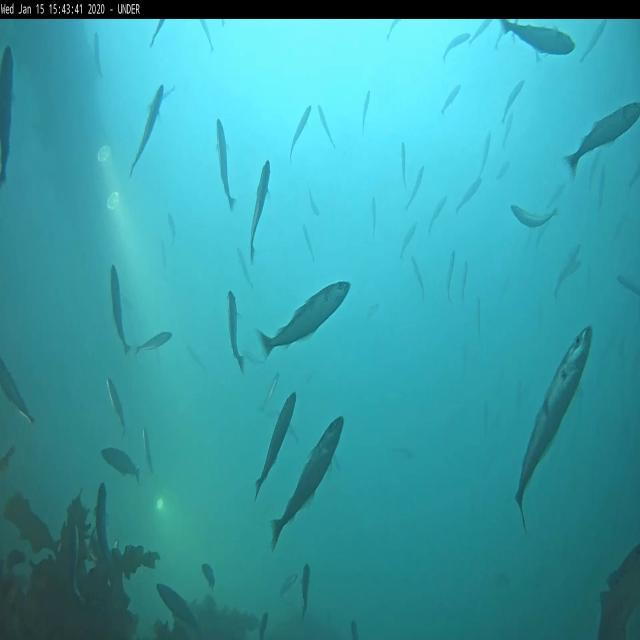fish: (517, 328, 595, 532), (272, 416, 344, 553), (258, 280, 350, 357), (563, 103, 639, 180), (254, 393, 297, 500), (131, 84, 163, 176), (504, 18, 575, 57), (156, 582, 200, 634), (2, 360, 35, 423), (250, 161, 273, 250), (109, 266, 132, 354), (216, 119, 236, 212), (0, 46, 13, 186), (95, 484, 114, 570), (229, 290, 248, 374), (69, 526, 87, 612), (554, 244, 580, 299), (101, 448, 140, 481), (290, 104, 312, 159), (106, 374, 127, 428), (511, 204, 558, 227), (580, 20, 608, 58), (501, 78, 525, 122), (318, 104, 338, 150), (589, 140, 611, 181), (137, 331, 175, 354), (261, 368, 281, 411), (458, 176, 483, 210), (442, 32, 471, 60), (406, 170, 424, 210), (430, 196, 450, 230), (441, 82, 462, 114), (237, 248, 253, 284), (470, 18, 492, 44), (200, 20, 218, 51), (412, 256, 424, 300), (618, 271, 639, 296), (401, 222, 416, 257), (94, 34, 105, 80), (148, 19, 166, 47), (144, 424, 154, 474), (446, 248, 456, 296), (481, 131, 492, 172), (278, 572, 298, 594), (201, 562, 216, 591), (304, 224, 314, 264), (566, 256, 582, 280), (240, 354, 268, 367), (598, 164, 606, 209), (363, 90, 371, 132), (370, 197, 378, 236), (304, 564, 310, 615), (259, 611, 271, 636), (402, 143, 408, 190), (308, 194, 320, 216), (462, 260, 468, 302), (388, 20, 400, 40), (498, 161, 510, 180), (504, 116, 512, 144), (168, 215, 174, 248), (350, 620, 360, 638), (478, 298, 482, 336)
